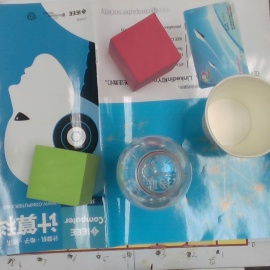bottle: (184, 2, 247, 90), (117, 135, 192, 208)
